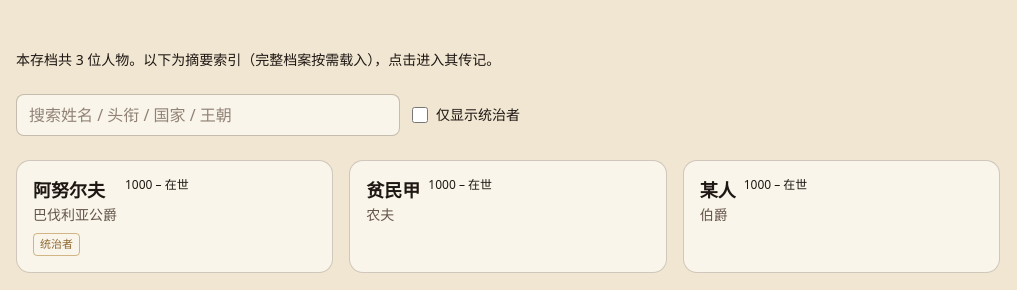
Test: SelectPage（搜索 / 筛选 / 导航） › 仅显示统治者筛选
Click the checkbox labelled "仅显示统治者" at (420, 115), box top-left (412, 107), bottom-right (428, 123)
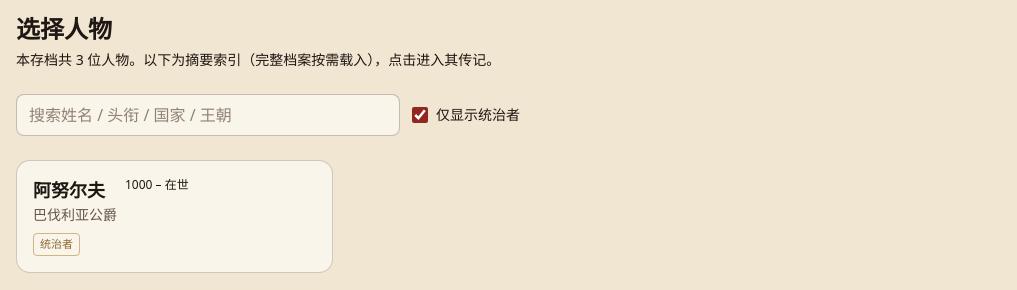
Expected: the heading "阿努尔夫" is shown, top-left (33, 177), bottom-right (117, 205)
Result: the button "贫民甲" is gone
Result: the button "某人" is gone
